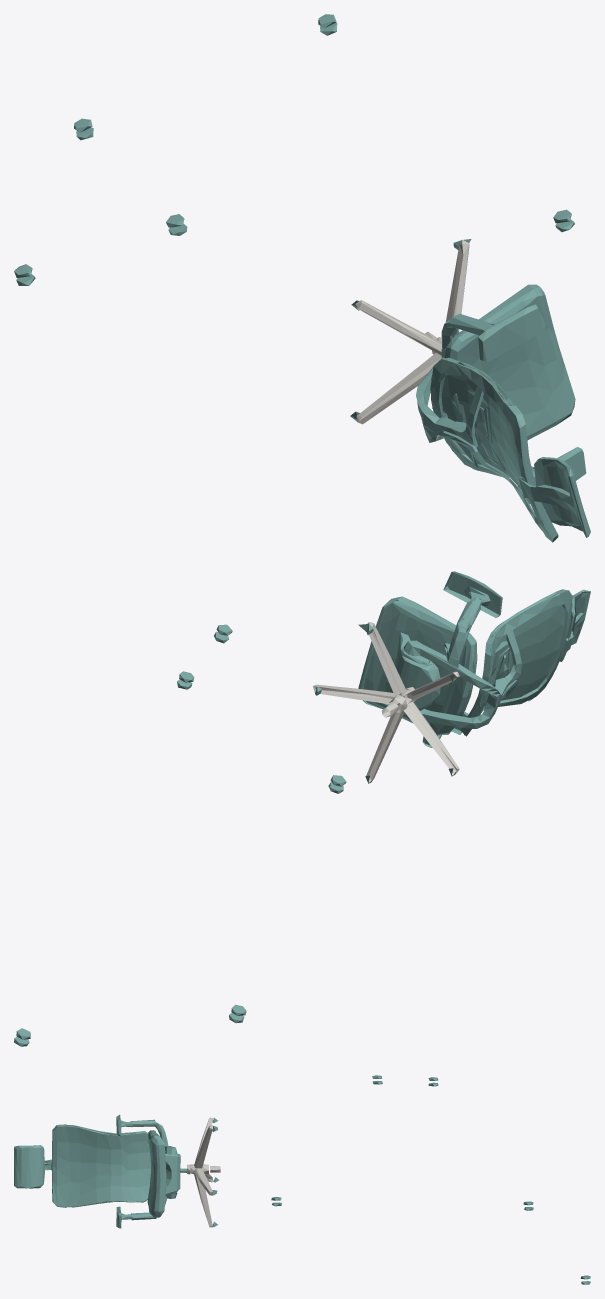
3 renders of one model, top to bottom at view 1: azimuth 30°, elevation 25°; view 2: azimuth 150°, elevation 25°; view 3: azimuth 270°, elevation 25°, orthographic. The views are drawn at different scales.
Visible parts, largest first — view 1: world; view 2: world; view 3: world.
Boxes of the visible parts, box(x1,y1,x2,y2) form: world: box(14, 14, 590, 542); world: box(14, 571, 590, 1046); world: box(14, 1075, 590, 1284).
Bounding box in the file's own units: 1.73 × 1.76 × 4.66.
